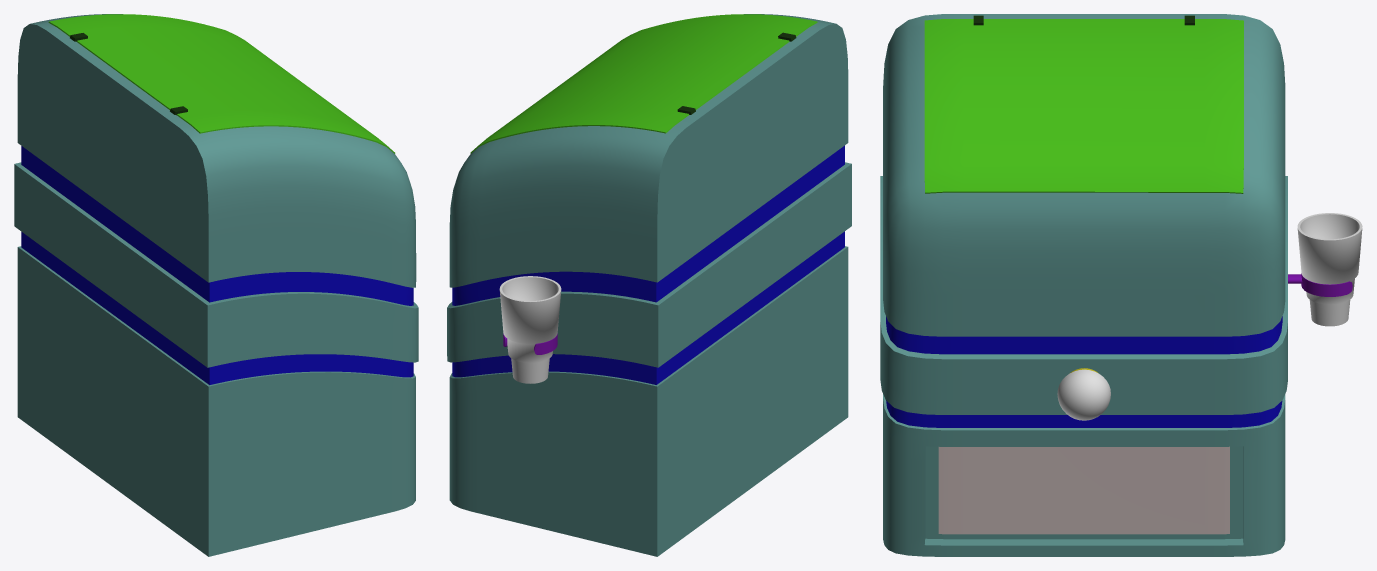
File: Aspiradora.fbx
3 renders of one model, left to right at view 1: azimuth 30°, elevation 25°; view 2: azimuth 150°, elevation 25°; view 3: azimuth 270°, elevation 25°, orthographic. The views are drawn at different scales.
Visible parts, largest first — view 1: CajaAspiradora001; view 2: CajaAspiradora001, Manguera001; view 3: CajaAspiradora001, Manguera001, Boton001.
Part boxes in pixels (x1,y1,x2,y2): CajaAspiradora001: (14, 14, 418, 556); CajaAspiradora001: (447, 14, 851, 556); Manguera001: (499, 276, 561, 383); CajaAspiradora001: (880, 14, 1352, 556); Manguera001: (1297, 213, 1362, 326); Boton001: (1057, 369, 1110, 420).
Bounding box in the file's own units: 1.17 × 1.78 × 1.8.
